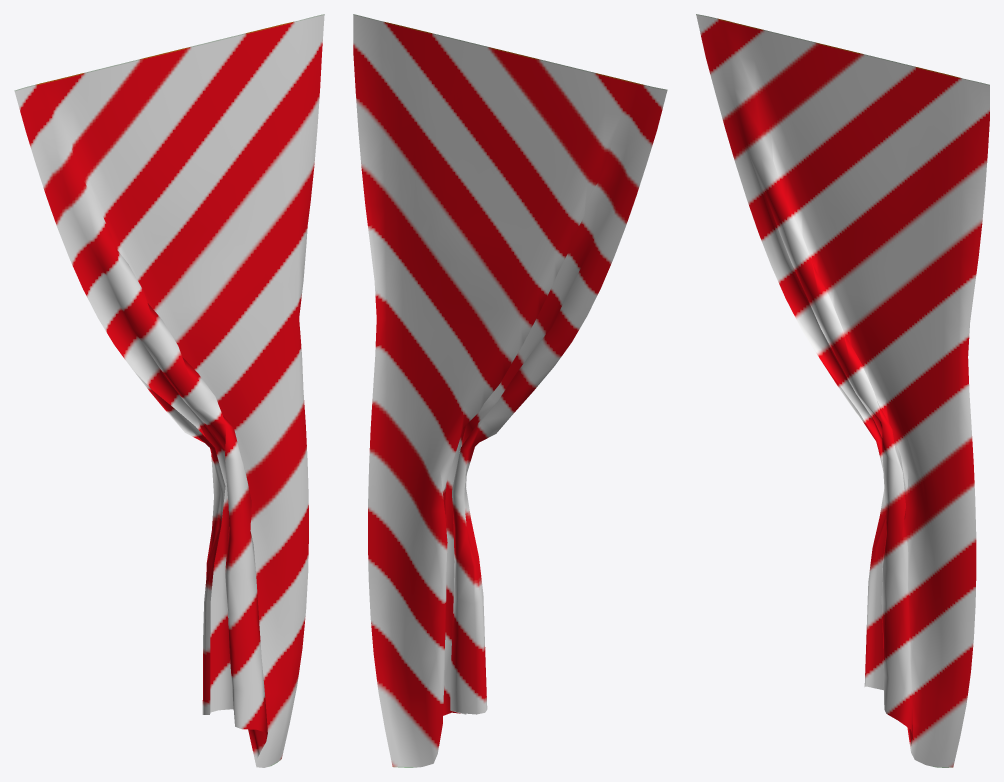
3 views of the same model, side by side, from view 1: azimuth 30°, elevation 25°; view 2: azimuth 150°, elevation 25°; view 3: azimuth 330°, elevation 25° (orthographic). The views are drawn at different scales.
Visible parts, largest first — view 1: CurtainRightCandyCane; view 2: CurtainRightCandyCane; view 3: CurtainRightCandyCane.
Part boxes in pixels (x1=…): CurtainRightCandyCane: x1=14, y1=14, x2=324, y2=767; CurtainRightCandyCane: x1=353, y1=14, x2=667, y2=767; CurtainRightCandyCane: x1=696, y1=14, x2=989, y2=767.
Bounding box in the file's own units: 0.874 × 1.98 × 0.0844.
Materials: 1 (1 with a texture image).
